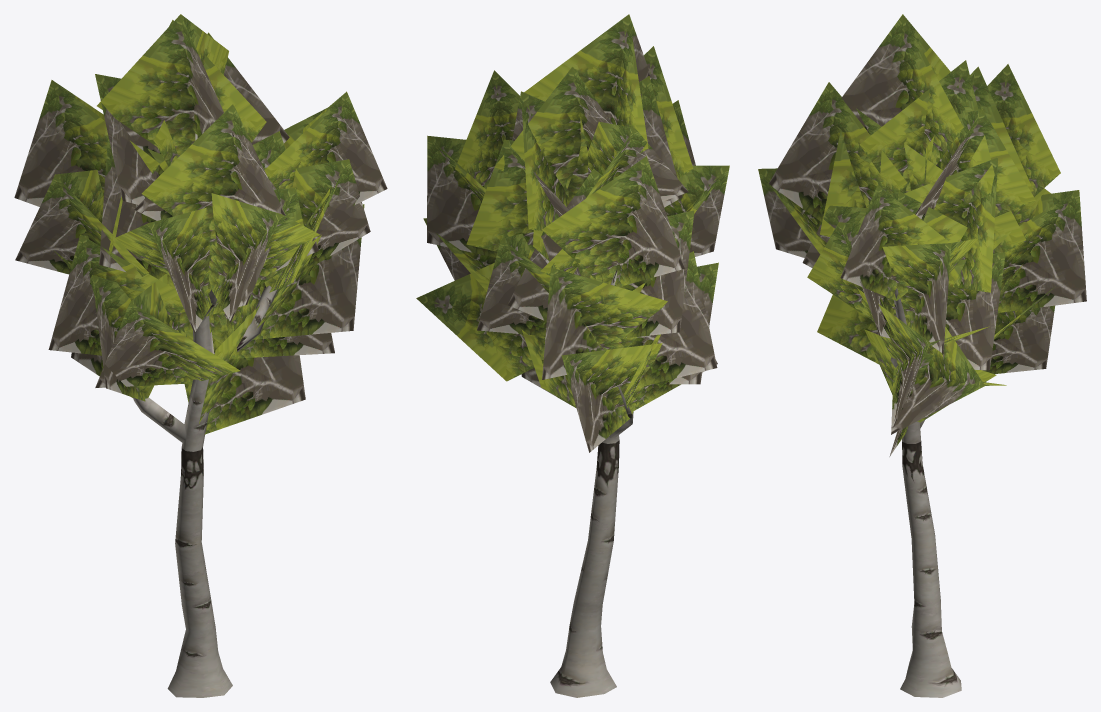
File: Birch.glb
The picture shows the model from 3 angles, left to right: view 1: azimuth 30°, elevation 25°; view 2: azimuth 150°, elevation 25°; view 3: azimuth 270°, elevation 25°; orthographic projection. The views are drawn at different scales.
Visible parts, largest first — view 1: Birch; view 2: Birch; view 3: Birch.
Part boxes in pixels (x1,y1,x2,y2): Birch: (14, 14, 387, 697); Birch: (416, 14, 729, 697); Birch: (758, 14, 1086, 697).
Bounding box in the file's own units: 21.63 × 45.97 × 20.89.
1 material, 1 textured.
